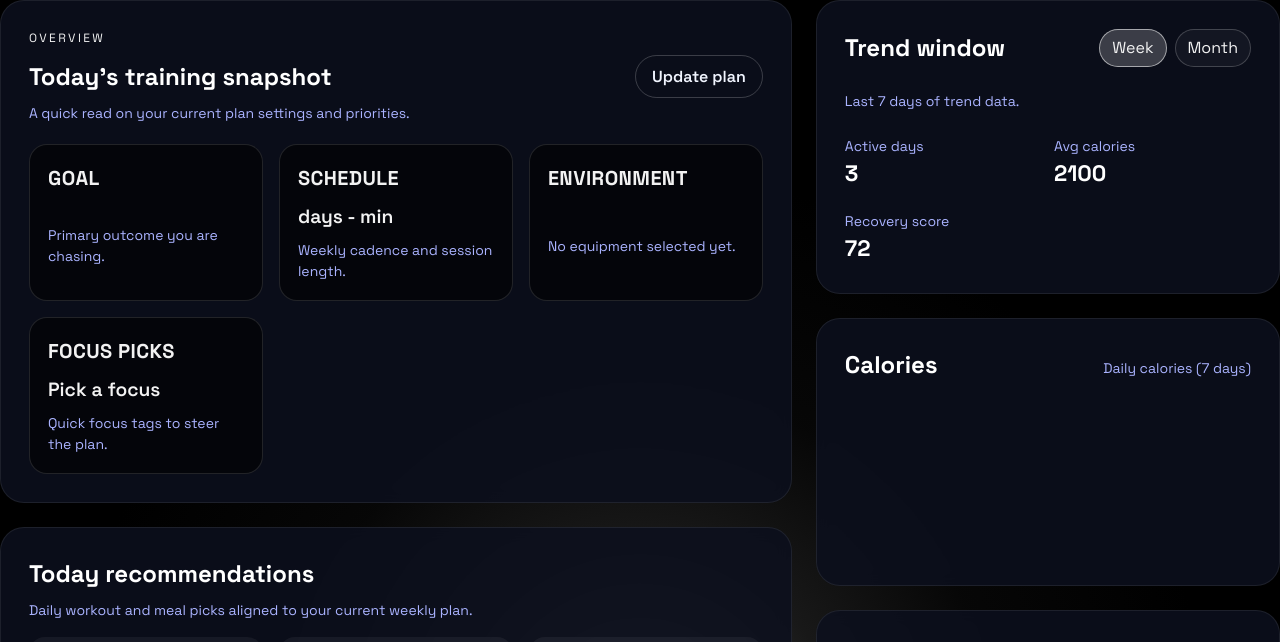
Test: SummaryView › the trend range toggle › switching back returns to the week
Click the button "Month".
click(1213, 48)  # box [1174,29,1251,67]
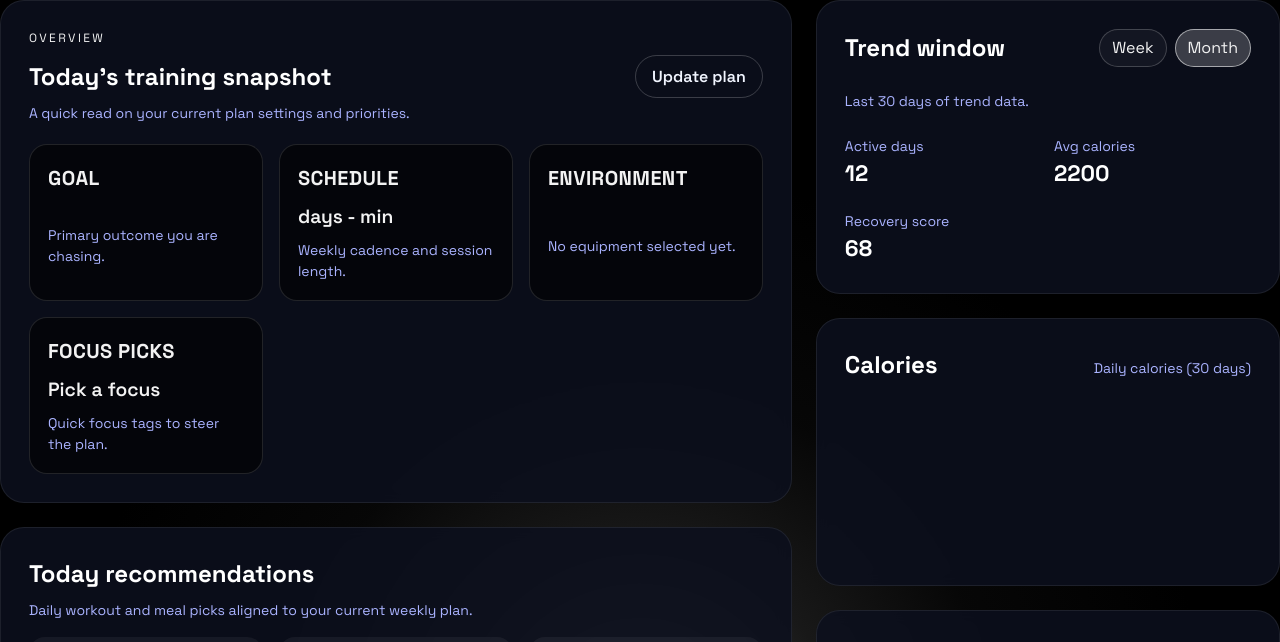
Click the button "Week".
click(1133, 48)  # box [1099,29,1166,67]
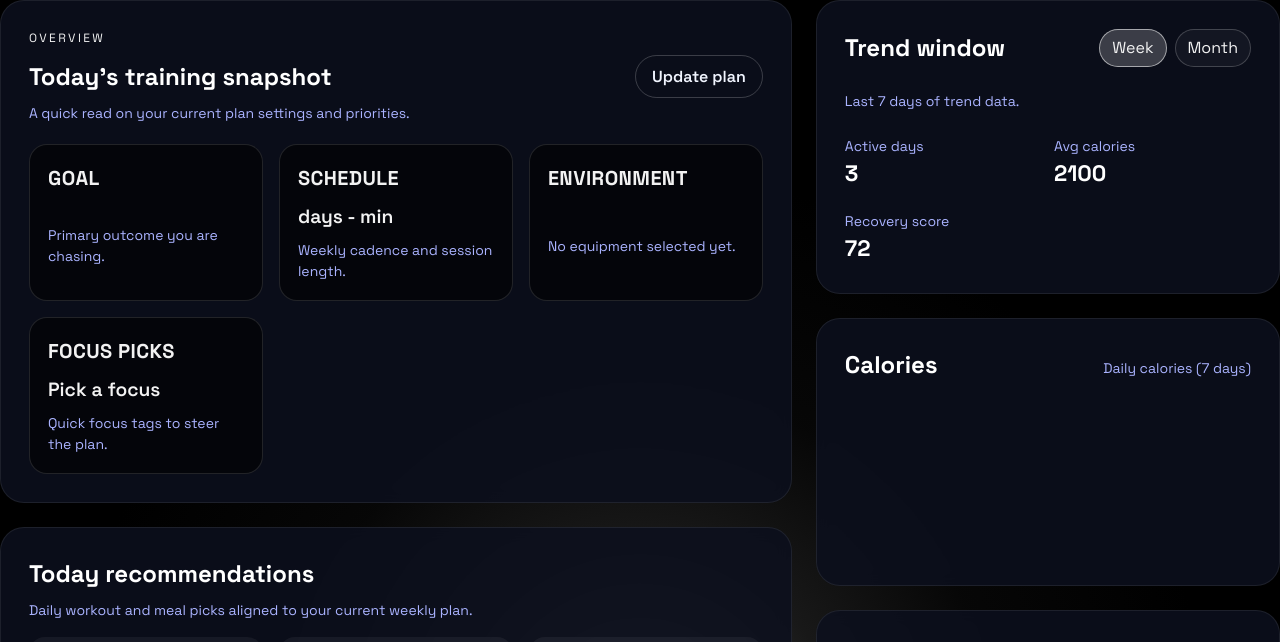
Result: the text "Last 7 days of trend data." is shown at [845,92,1019,110]
